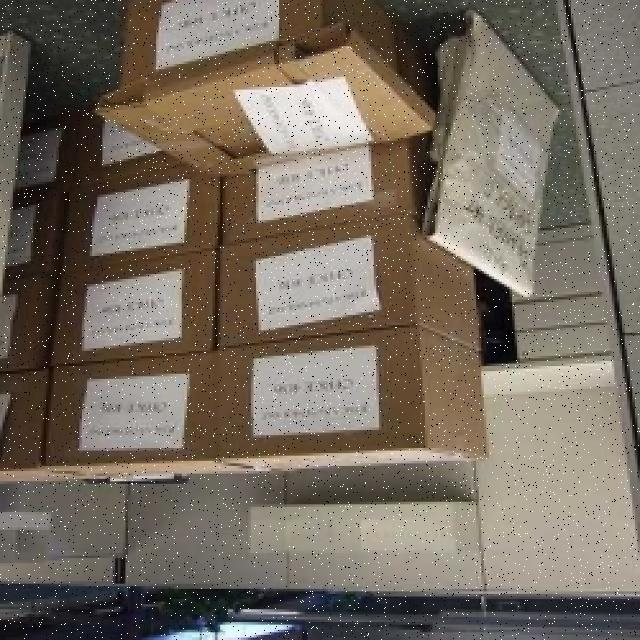box: (90, 0, 420, 182), (215, 344, 487, 466), (205, 232, 481, 347), (51, 360, 238, 478), (222, 155, 427, 254), (52, 264, 220, 357), (52, 178, 218, 259), (38, 104, 185, 174), (0, 112, 72, 194), (0, 371, 51, 481), (0, 192, 59, 279), (0, 276, 49, 374)
